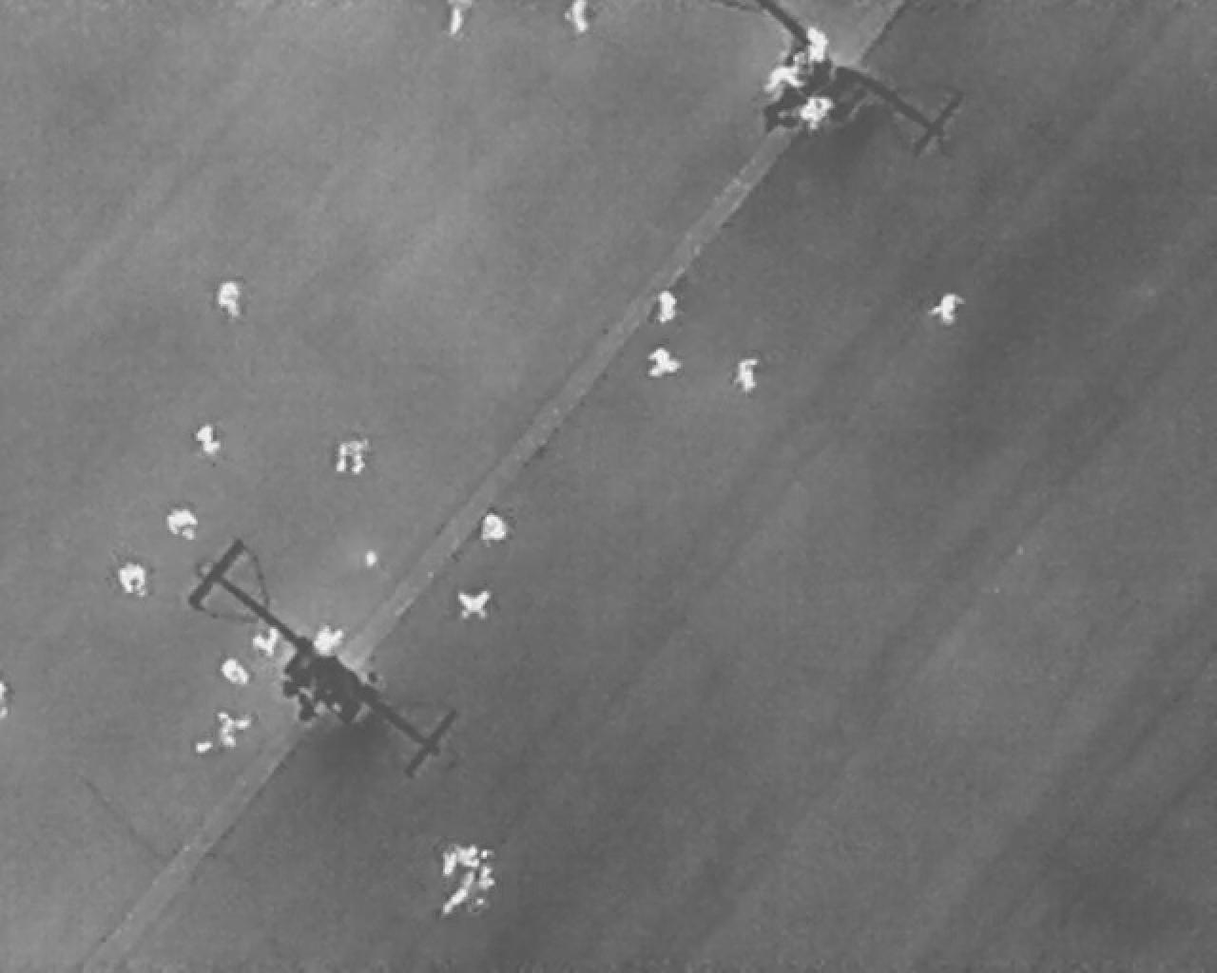person: (436, 856, 501, 928), (195, 712, 254, 755), (442, 843, 495, 875), (765, 52, 805, 94), (216, 653, 256, 693), (311, 620, 349, 658), (800, 98, 836, 134), (929, 294, 967, 326), (455, 590, 493, 622), (119, 562, 151, 600), (647, 349, 684, 381), (164, 510, 201, 541), (336, 438, 366, 476), (562, 1, 589, 41), (193, 425, 225, 457), (735, 356, 763, 392), (252, 622, 280, 657), (446, 1, 471, 39), (655, 290, 680, 326), (482, 510, 509, 543), (218, 280, 241, 316), (809, 29, 832, 62)
